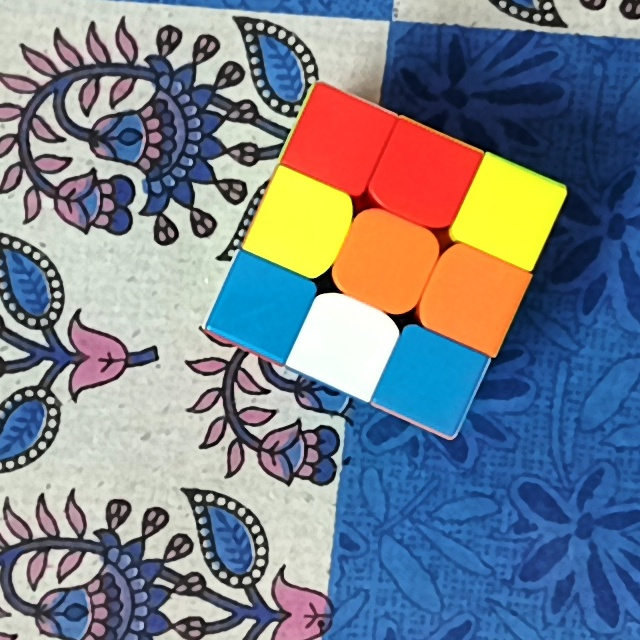tile: (445, 261, 508, 330), (357, 227, 419, 297), (394, 144, 460, 207), (401, 350, 467, 413), (266, 192, 328, 255), (302, 109, 367, 168), (235, 274, 296, 335), (479, 179, 539, 241), (315, 312, 376, 370)
